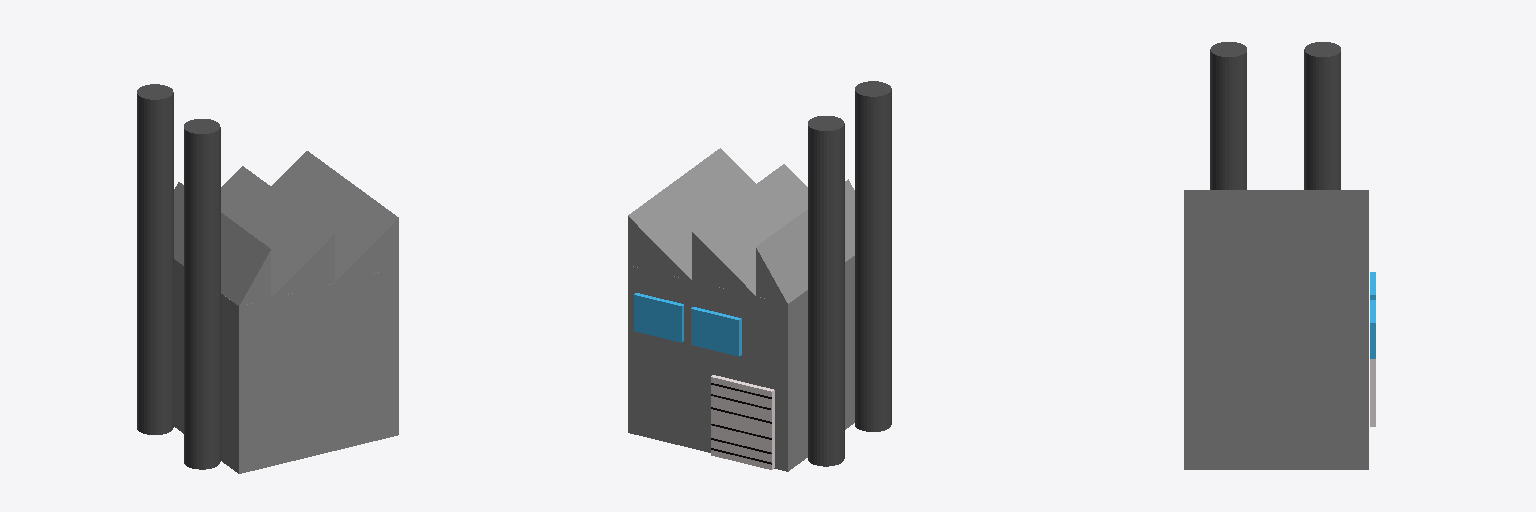
3 renders of one model, left to right at view 1: azimuth 30°, elevation 25°; view 2: azimuth 150°, elevation 25°; view 3: azimuth 270°, elevation 25°, orthographic.
Visible parts, largest first — view 1: 立方体.001; view 2: 立方体.001; view 3: 立方体.001.
Boxes of the visible parts, x1=… form: 立方体.001: x1=137, y1=84, x2=398, y2=473; 立方体.001: x1=628, y1=81, x2=891, y2=471; 立方体.001: x1=1184, y1=42, x2=1375, y2=469.
Size of the model in its own units: 1.19 by 2 by 1.03.
Materials: 1 (1 with a texture image).